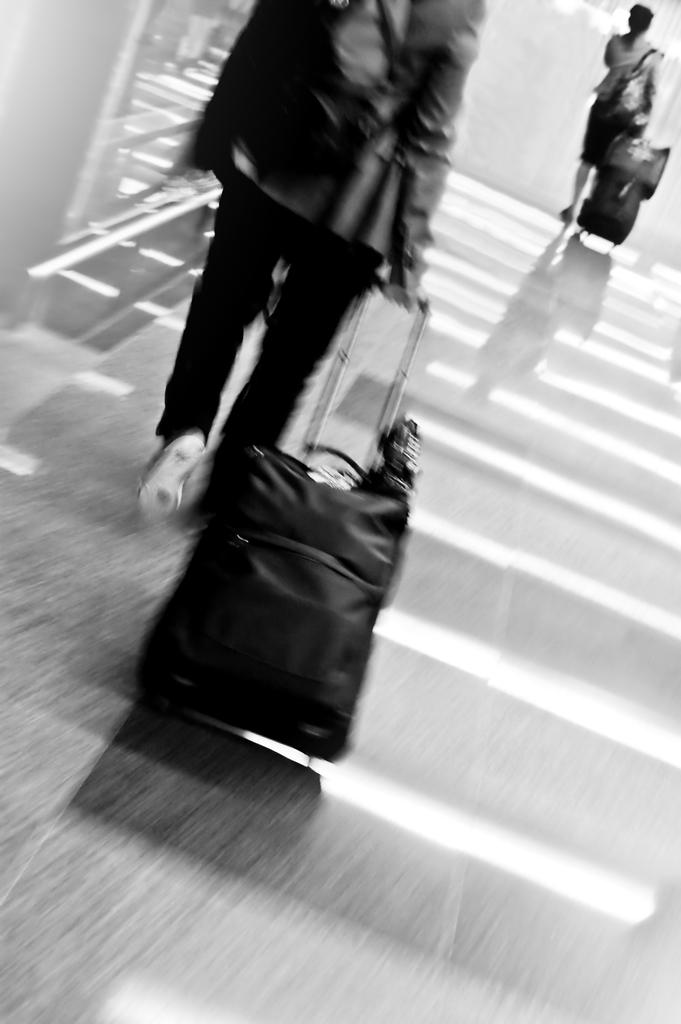Luggage-and-bags: (135, 273, 435, 764), (578, 120, 648, 251), (606, 113, 677, 196), (601, 46, 664, 134)
